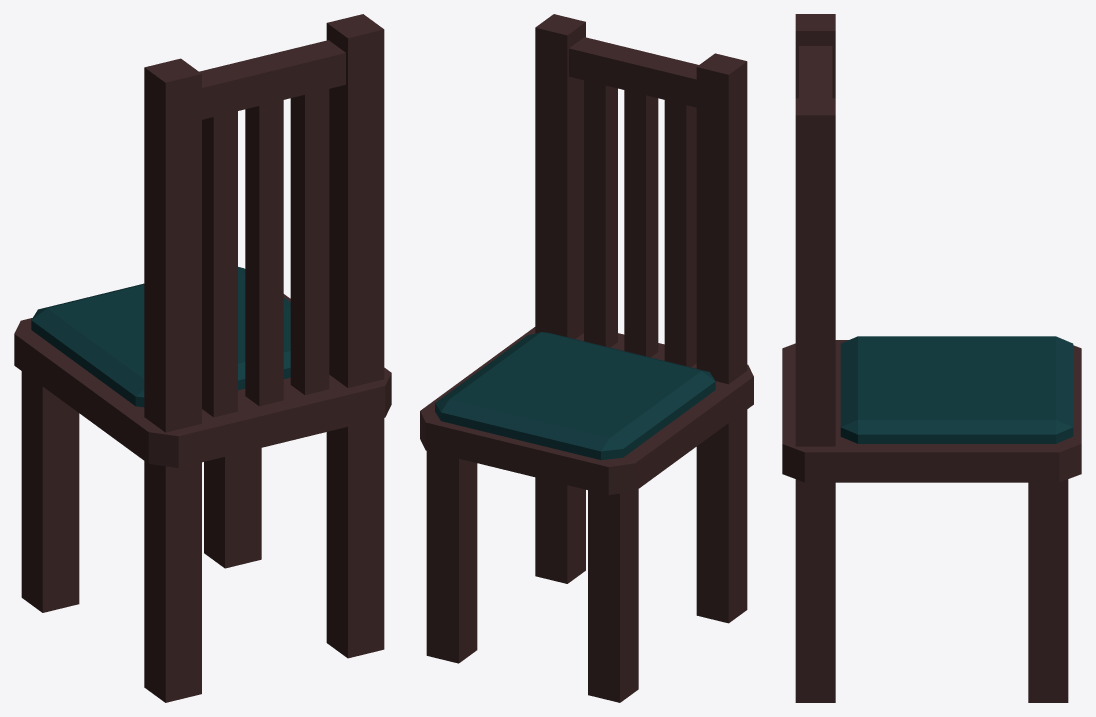
Rendered from Dining Chair.fbx.
3 views of the same model, side by side, from view 1: azimuth 30°, elevation 25°; view 2: azimuth 150°, elevation 25°; view 3: azimuth 270°, elevation 25° (orthographic). The views are drawn at different scales.
Visible parts, largest first — view 1: ChairBack.005, ChairBack.002, Chair, ChairLeg.004, ChairLeg.003, ChairLeg.002, ChairBack.003, ChairBack.004, ChairBack.006, Cushion, ChairBack.001, ChairLeg.001; view 2: Cushion, ChairBack.005, ChairBack.002, Chair, ChairLeg.001, ChairLeg.002, ChairLeg.004, ChairBack.004, ChairBack.003, ChairBack.006, ChairBack.001, ChairLeg.003; view 3: Cushion, Chair, ChairBack.002, ChairLeg.001, ChairLeg.003, ChairBack.001, ChairBack.005.
Part boxes in pixels (x1=…): ChairBack.005: x1=144, y1=58, x2=201, y2=432; ChairBack.002: x1=326, y1=14, x2=384, y2=387; Chair: x1=14, y1=294, x2=391, y2=467; ChairLeg.004: x1=144, y1=461, x2=201, y2=702; ChairLeg.003: x1=326, y1=418, x2=384, y2=658; ChairLeg.002: x1=21, y1=371, x2=79, y2=612; ChairBack.003: x1=290, y1=89, x2=329, y2=394; ChairBack.004: x1=245, y1=100, x2=283, y2=406; ChairBack.006: x1=202, y1=111, x2=237, y2=417; Cushion: x1=31, y1=267, x2=290, y2=407; ChairBack.001: x1=199, y1=40, x2=345, y2=119; ChairLeg.001: x1=204, y1=448, x2=261, y2=568; Cushion: x1=435, y1=332, x2=715, y2=459; ChairBack.005: x1=696, y1=53, x2=747, y2=384; ChairBack.002: x1=535, y1=14, x2=585, y2=338; Chair: x1=420, y1=327, x2=753, y2=495; ChairLeg.001: x1=426, y1=451, x2=477, y2=663; ChairLeg.002: x1=588, y1=489, x2=638, y2=702; ChairLeg.004: x1=696, y1=410, x2=747, y2=623; ChairBack.004: x1=624, y1=90, x2=658, y2=357; ChairBack.003: x1=584, y1=80, x2=617, y2=347; ChairBack.006: x1=664, y1=100, x2=696, y2=367; ChairBack.001: x1=569, y1=37, x2=698, y2=107; ChairLeg.003: x1=535, y1=477, x2=585, y2=583; Cushion: x1=840, y1=336, x2=1073, y2=443; Chair: x1=782, y1=340, x2=1081, y2=482; ChairBack.002: x1=795, y1=98, x2=835, y2=446; ChairLeg.001: x1=1028, y1=479, x2=1068, y2=702; ChairLeg.003: x1=795, y1=479, x2=835, y2=702; ChairBack.001: x1=799, y1=46, x2=832, y2=98; ChairBack.005: x1=795, y1=14, x2=835, y2=98.
Size of the model in its own units: 80 by 195 by 90.
